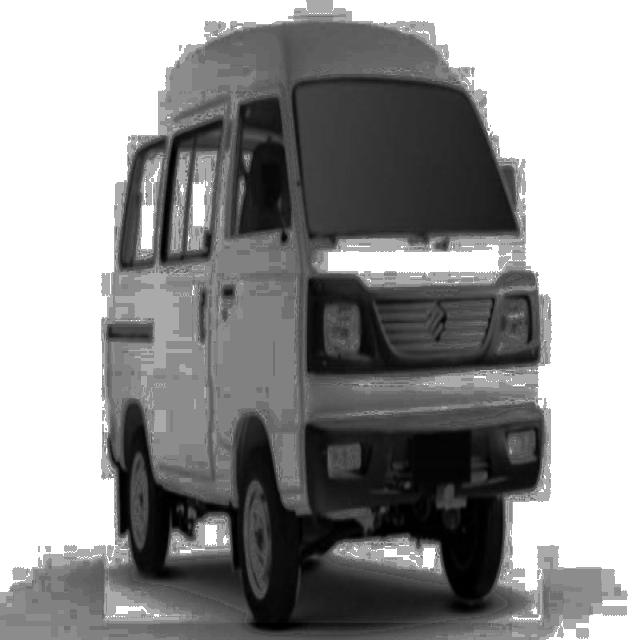LCV: (103, 18, 543, 624)
